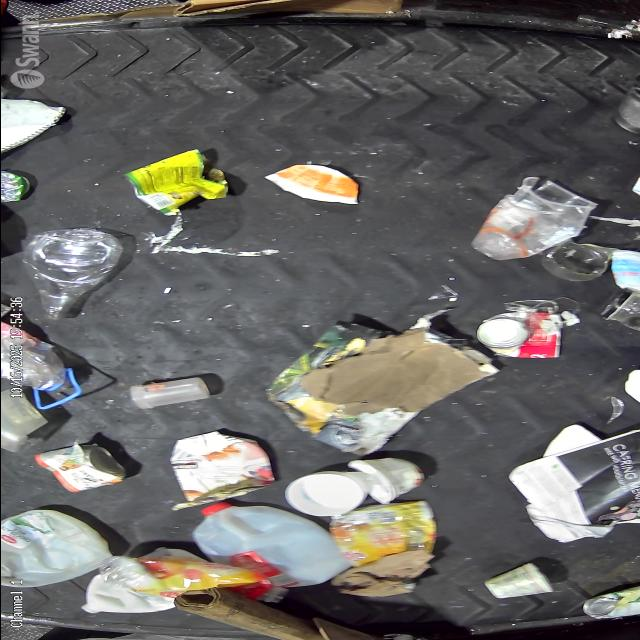can: (32, 442, 130, 492), (468, 316, 562, 358), (578, 578, 624, 627)
milk_jug: (180, 502, 344, 592), (72, 544, 216, 620), (0, 504, 116, 588)
plastic_bottle: (0, 320, 88, 412)
